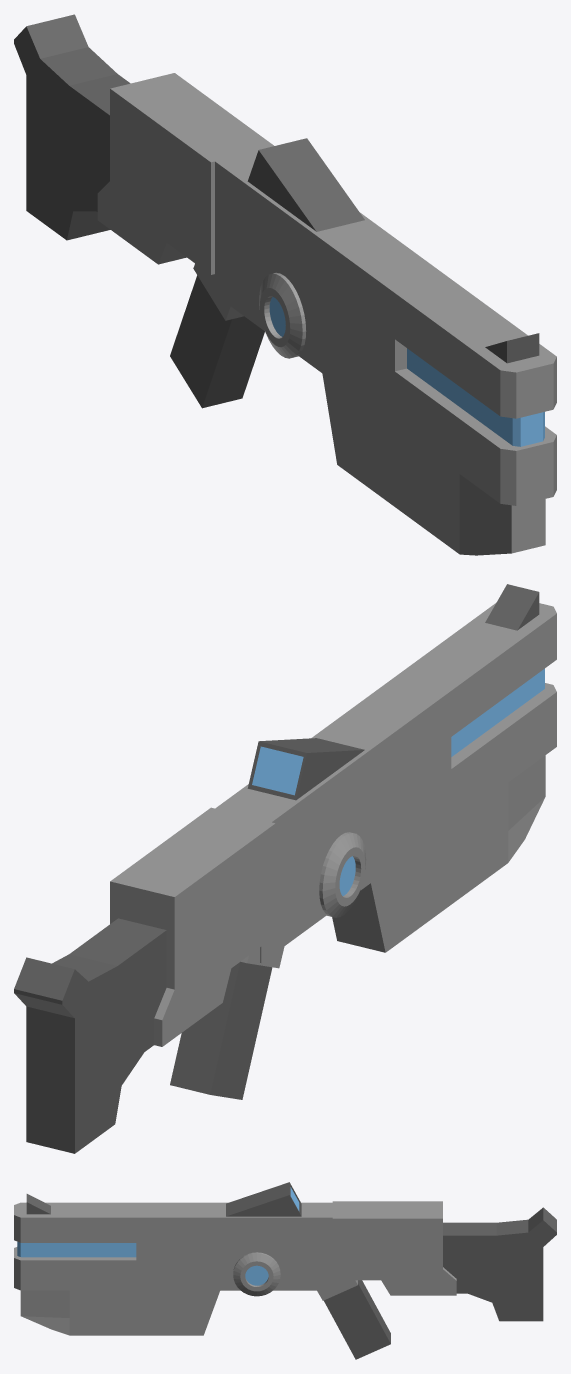
The model's file is rifle.fbx.
3 views of the same model, one above another, from view 1: azimuth 30°, elevation 25°; view 2: azimuth 150°, elevation 25°; view 3: azimuth 270°, elevation 25° (orthographic). The views are drawn at different scales.
Parts seen in each view (by area): view 1: Cube; view 2: Cube; view 3: Cube.
Boxes of the visible parts, x1,y1,x2,y2 form: Cube: (14, 14, 556, 555); Cube: (14, 584, 556, 1153); Cube: (14, 1182, 556, 1359).
Size of the model in its own units: 140 by 539 by 1599.
